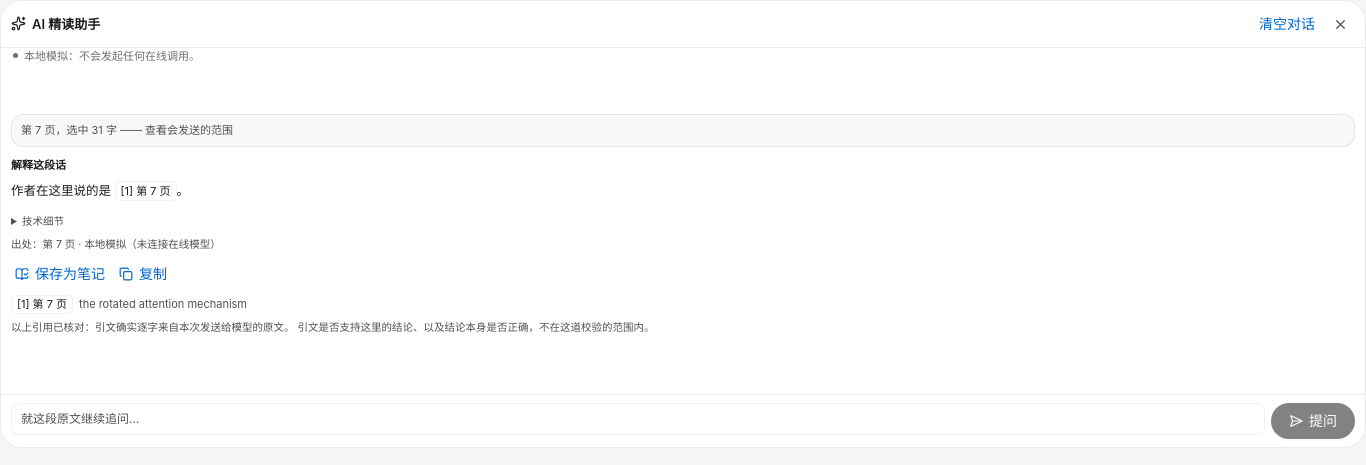
AiPanel › offers to save an answer as a note, and confirms it did
This screenshot has width=1366, height=465.
Click the button "保存为笔记".
click(60, 274)  # box [11, 259, 109, 289]
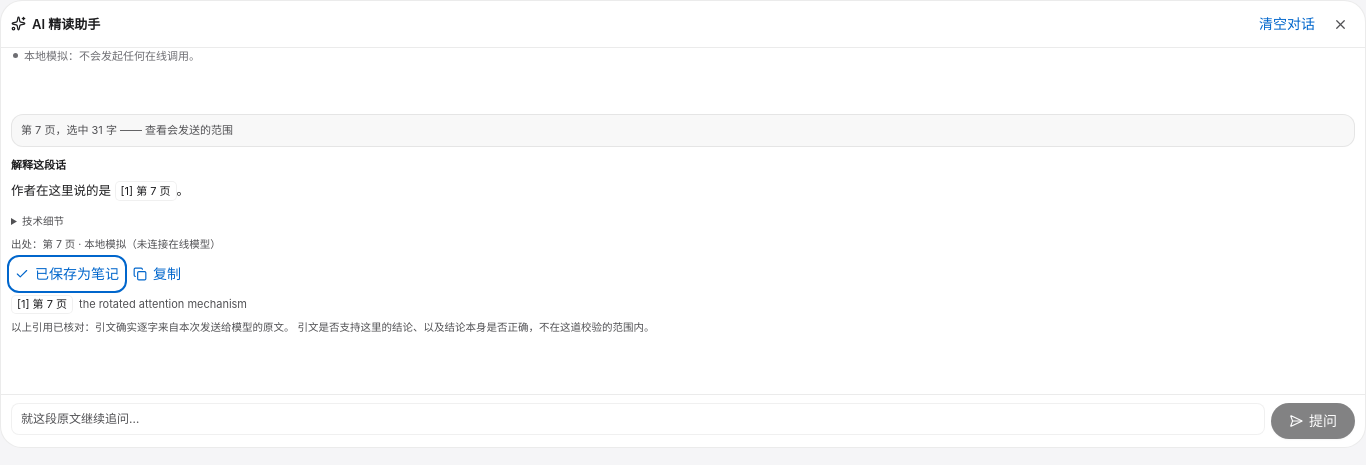
Now the button "已保存为笔记" is shown, box [11, 259, 123, 289]
